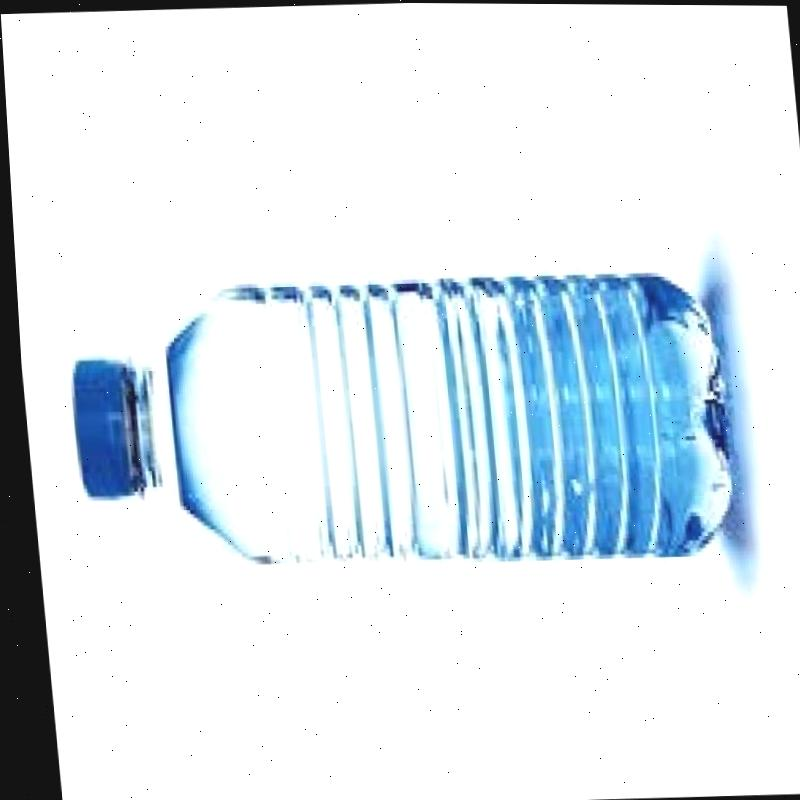botella: (54, 270, 733, 581)
